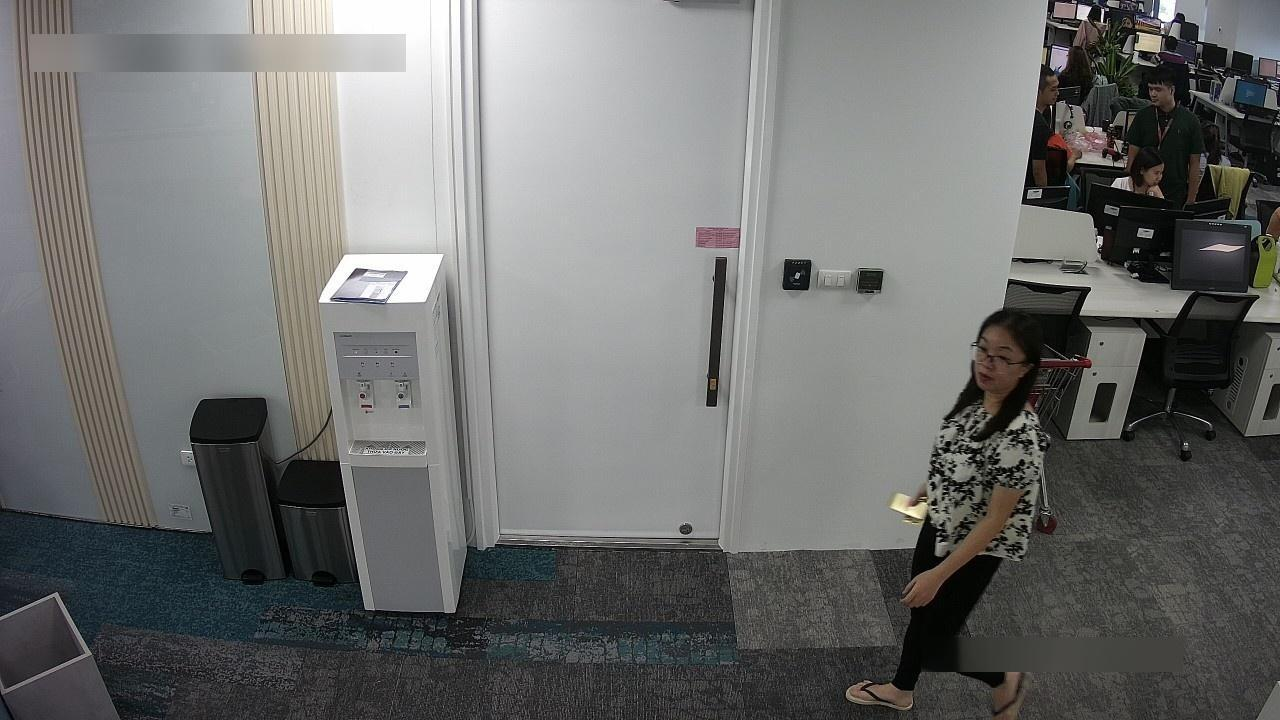no_apron: (900, 544, 971, 630), (884, 470, 931, 522)
no_gloves: (957, 298, 1049, 438), (1125, 145, 1164, 189), (1041, 55, 1073, 102), (1139, 57, 1184, 89)
no_hairnet: (968, 321, 1019, 392), (1136, 82, 1174, 110), (1132, 168, 1170, 194), (1037, 84, 1061, 116)
